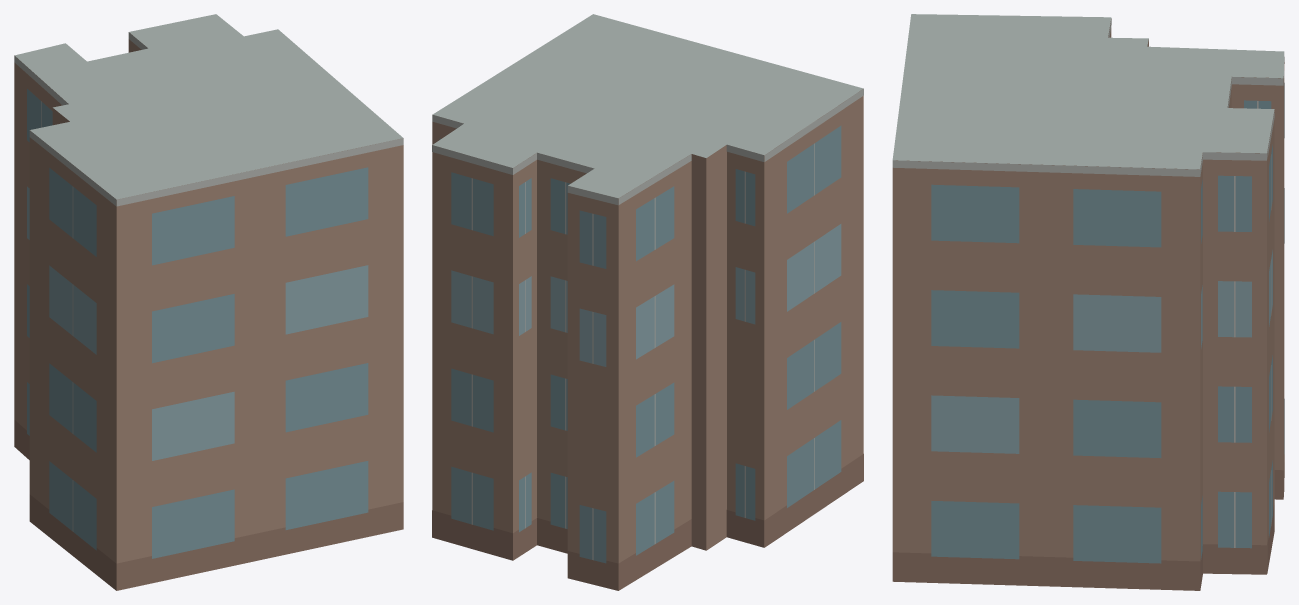
File: survey-upis-33022625.glb
3 renders of one model, left to right at view 1: azimuth 30°, elevation 25°; view 2: azimuth 150°, elevation 25°; view 3: azimuth 270°, elevation 25°, orthographic. The views are drawn at different scales.
Visible parts, largest first — view 1: survey-upis-33022625.tmp; view 2: survey-upis-33022625.tmp; view 3: survey-upis-33022625.tmp.
Part boxes in pixels (left/top/right/bottom): survey-upis-33022625.tmp: left=14, top=14, right=403, bottom=590; survey-upis-33022625.tmp: left=432, top=14, right=863, bottom=590; survey-upis-33022625.tmp: left=892, top=14, right=1284, bottom=590.
Size of the model in its own units: 10.83 by 13.68 by 11.54.
